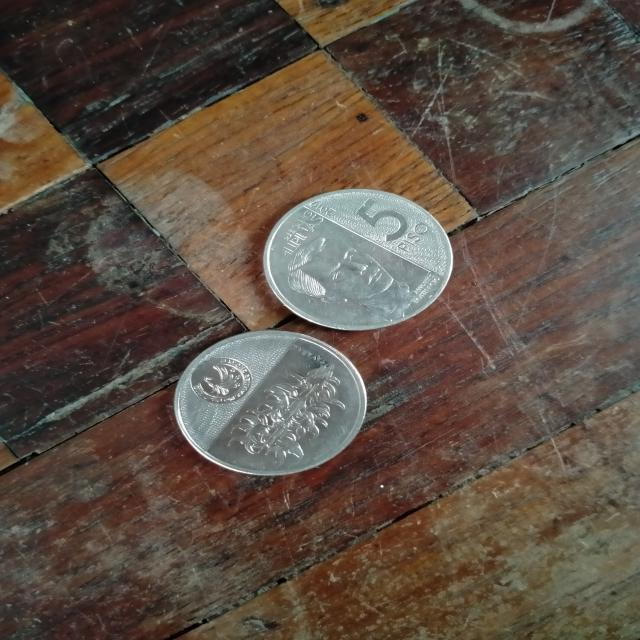5_New_Back: (232, 358, 358, 472)
5_New_Front: (341, 198, 439, 257)
